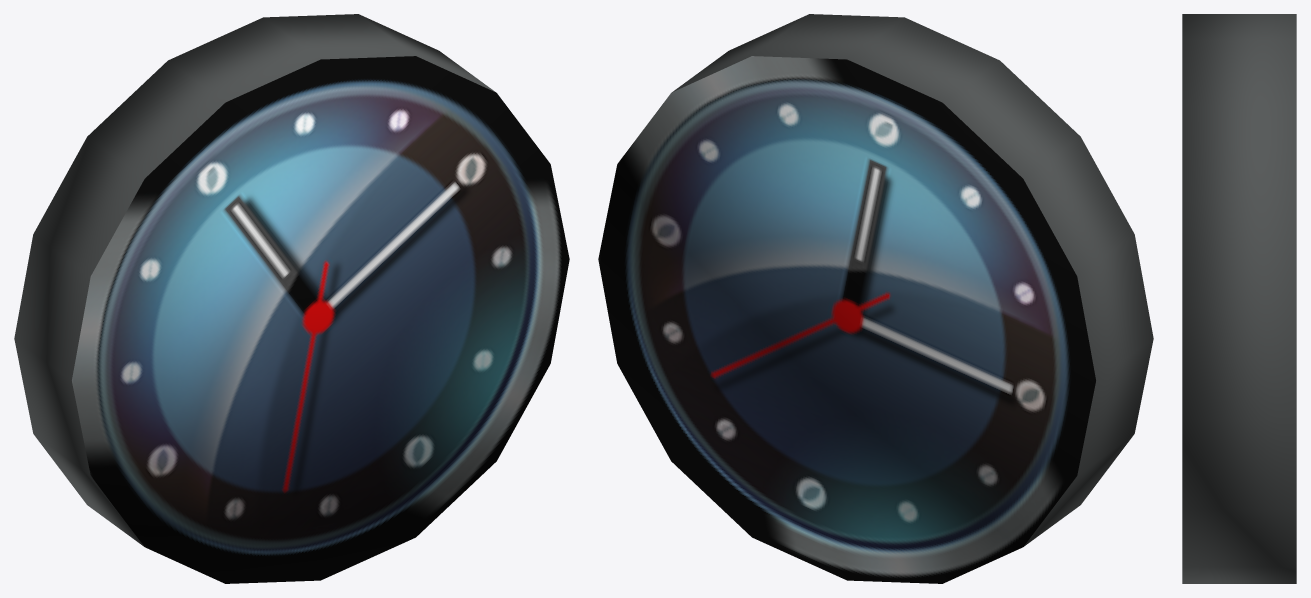
Rendered from timebonus.fbx.
The picture shows the model from 3 angles, left to right: view 1: azimuth 30°, elevation 25°; view 2: azimuth 150°, elevation 25°; view 3: azimuth 270°, elevation 25°; orthographic projection.
Visible parts, largest first — view 1: scene.timebonus; view 2: scene.timebonus; view 3: scene.timebonus.
Part boxes in pixels (x1,y1,x2,y2): scene.timebonus: (14,14,569,583); scene.timebonus: (598,14,1153,583); scene.timebonus: (1182,14,1296,583).
Size of the model in its own units: 1 by 1 by 0.2.
1 material, 1 textured.
